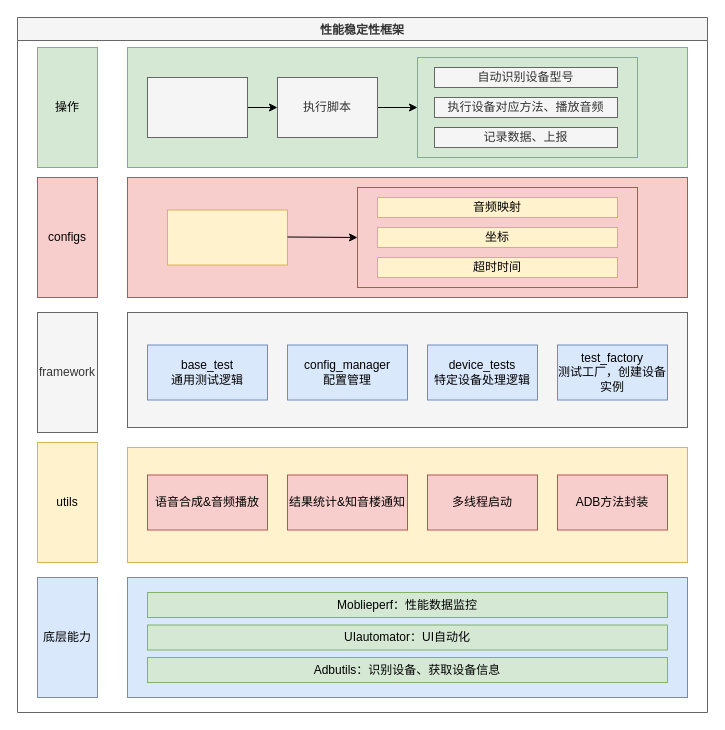
Some shapes in this 725 by 730 pixel diagram are drawn without their labels. The shapes that lost their labels are listed below. From the top down, each one's box as (x1, y1, x2, y2) in pixels, then its label:
(146, 76, 248, 138): ADB链接设备
(166, 209, 288, 265): .json
